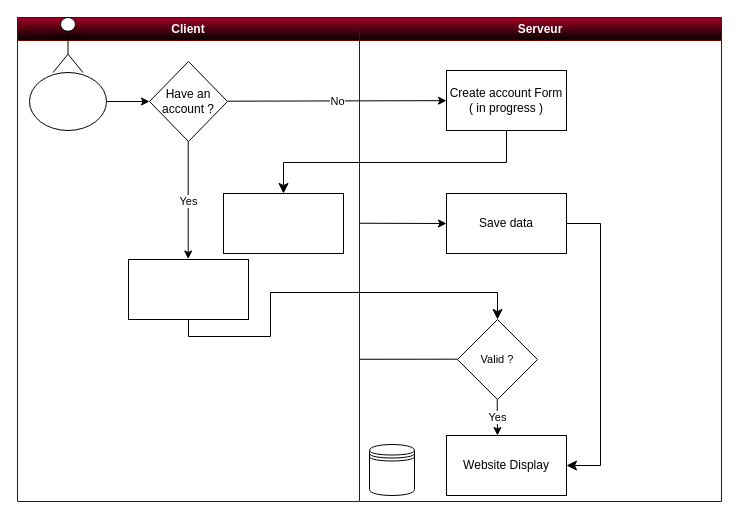
Some shapes in this 739 by 519 pixel diagram are drawn without their labels. Here are the shapes that lost their labels. From the top down, the centre of each, then its label:
At pixel 67 101: "Website Access".
At pixel 283 223: "Enter email, password".
At pixel 188 289: "Enter email and password".
